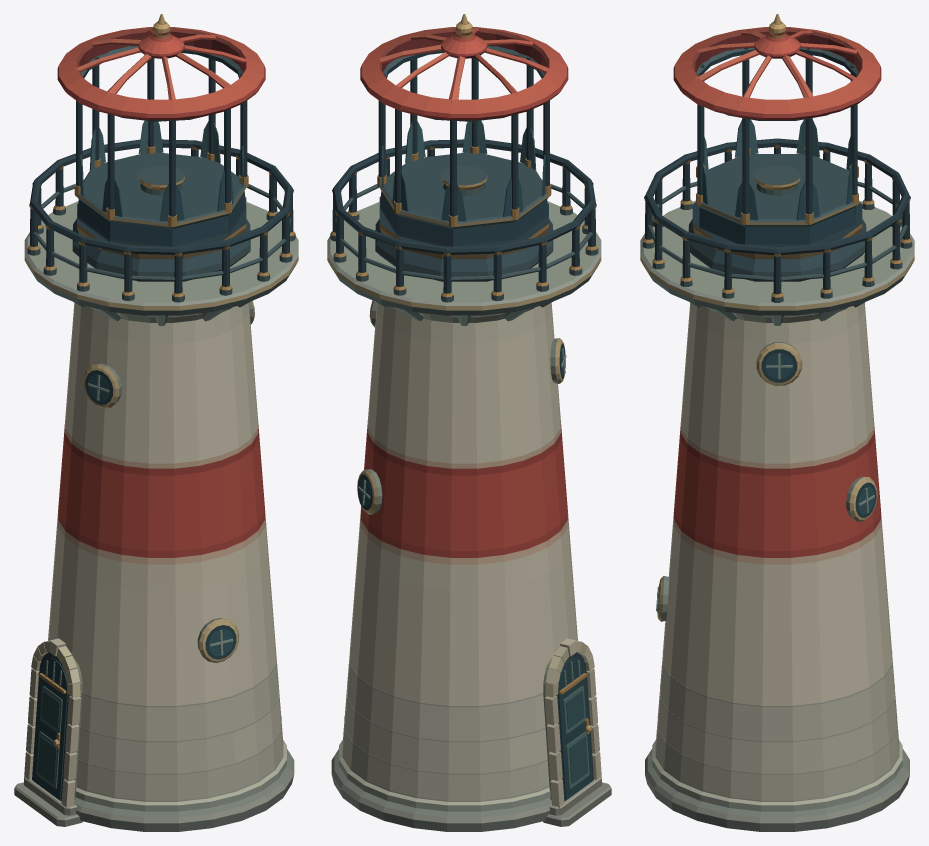
File: SM_HarborLighthouse.fbx
3 renders of one model, left to right at view 1: azimuth 30°, elevation 25°; view 2: azimuth 150°, elevation 25°; view 3: azimuth 270°, elevation 25°, orthographic.
Visible parts, largest first — view 1: SM_HarborLighthouse; view 2: SM_HarborLighthouse; view 3: SM_HarborLighthouse.
Boxes of the visible parts, left/top/right/bottom form: SM_HarborLighthouse: left=14, top=14, right=298, bottom=831; SM_HarborLighthouse: left=327, top=14, right=611, bottom=831; SM_HarborLighthouse: left=640, top=14, right=914, bottom=831.
Size of what is drawn, in the model's own units: 3.09 by 2.99 by 9.22.
